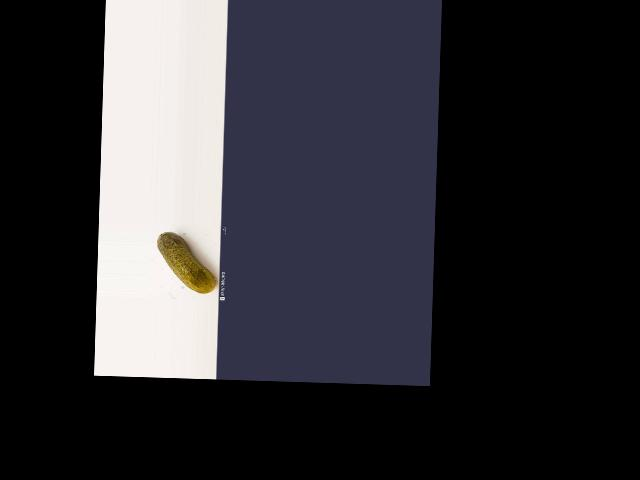cucumber: (156, 231, 217, 293)
